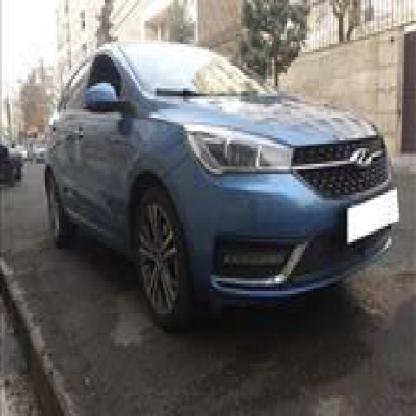car: (33, 31, 400, 333)
